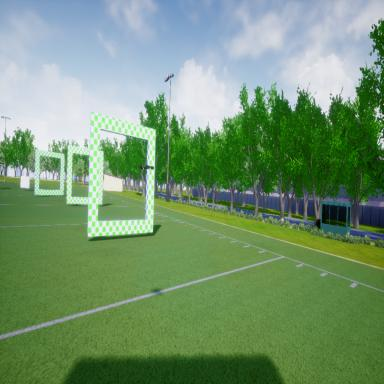gate: (88, 109, 159, 244), (65, 140, 104, 209), (32, 144, 64, 202)
